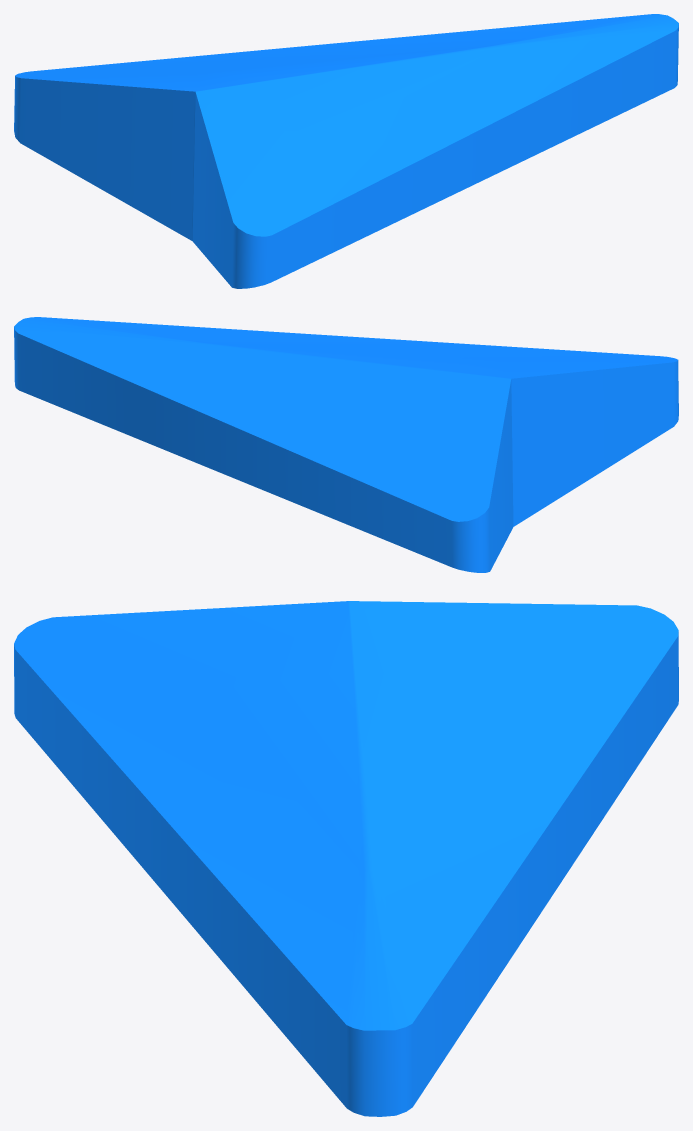
The model's file is drone.glb.
3 views of the same model, one above another, from view 1: azimuth 30°, elevation 25°; view 2: azimuth 150°, elevation 25°; view 3: azimuth 270°, elevation 25° (orthographic). The views are drawn at different scales.
Visible parts, largest first — view 1: model_0; view 2: model_0; view 3: model_0.
Part boxes in pixels (box(x1,y1,x2,y2)): model_0: box(14, 14, 678, 288); model_0: box(14, 317, 678, 572); model_0: box(14, 601, 678, 1116).
Bounding box in the file's own units: 28.69 × 7.23 × 19.9.
